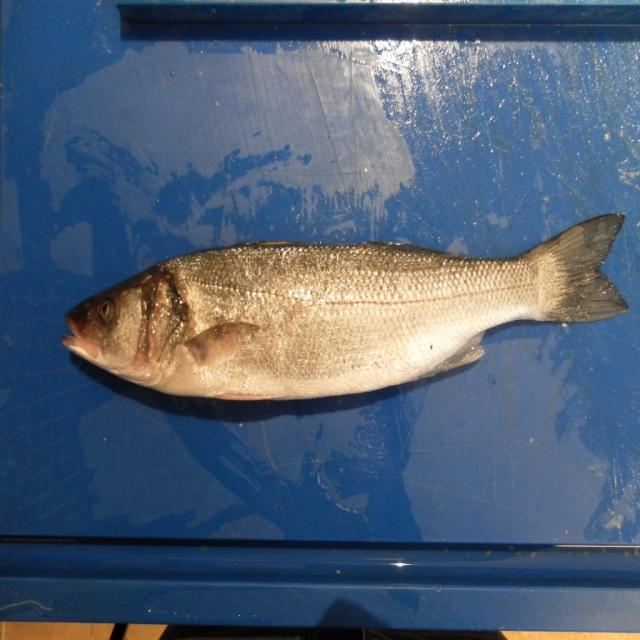Sea-Bass-levrek-: (62, 213, 629, 407)
